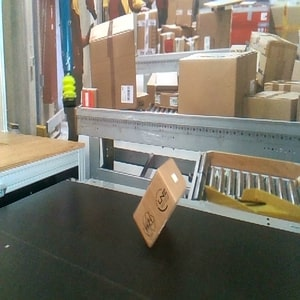box: (132, 157, 188, 249)
